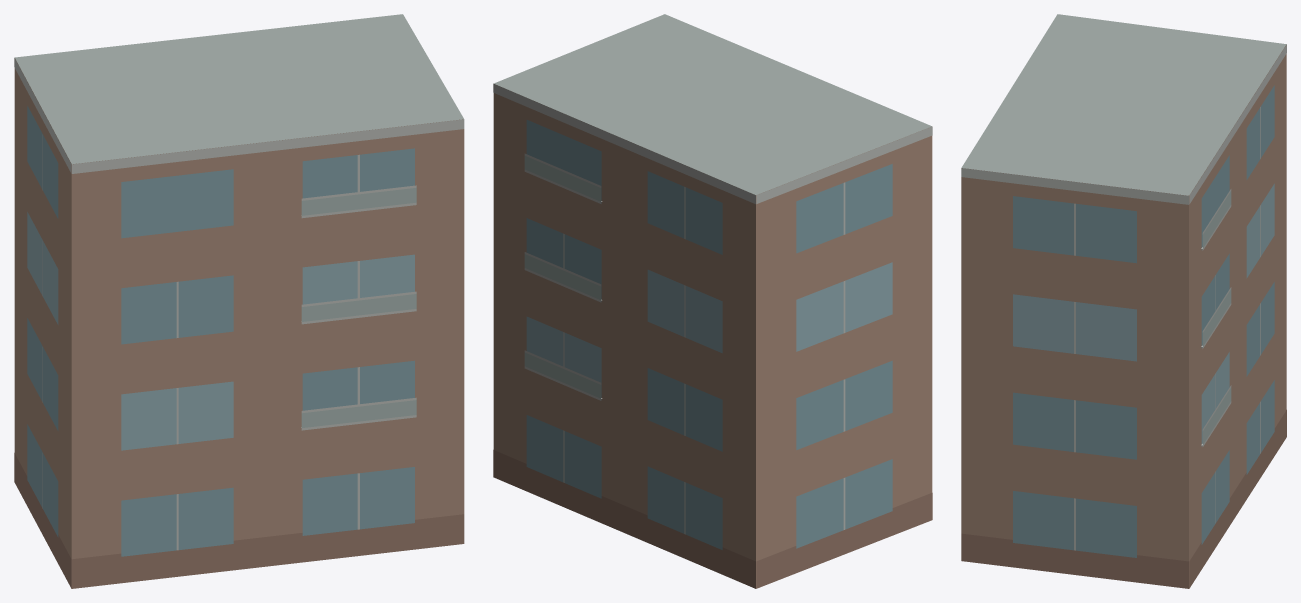
File: survey-upis-33035565.glb
The picture shows the model from 3 angles, left to right: view 1: azimuth 30°, elevation 25°; view 2: azimuth 150°, elevation 25°; view 3: azimuth 270°, elevation 25°; orthographic projection. The views are drawn at different scales.
Visible parts, largest first — view 1: survey-upis-33035565.tmp; view 2: survey-upis-33035565.tmp; view 3: survey-upis-33035565.tmp.
Part boxes in pixels (x1=…): survey-upis-33035565.tmp: x1=14, y1=14, x2=464, y2=588; survey-upis-33035565.tmp: x1=493, y1=14, x2=932, y2=588; survey-upis-33035565.tmp: x1=961, y1=14, x2=1286, y2=588.
Bounding box in the file's own units: 10.42 × 10.5 × 7.89.
